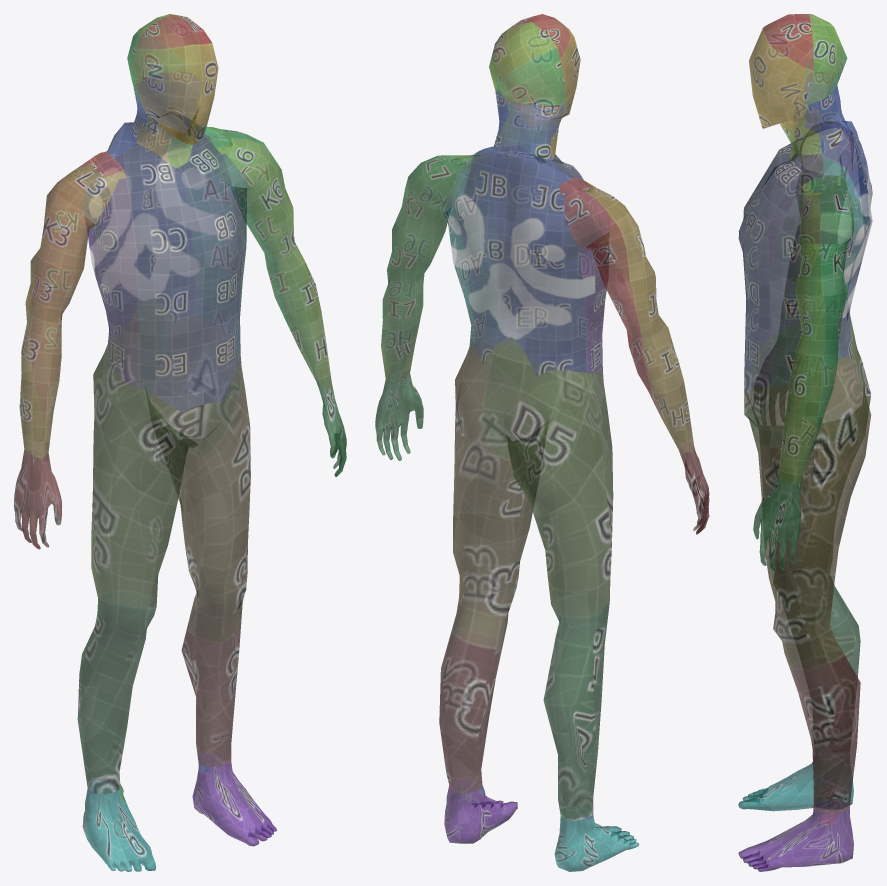
File: MaterialTest.fbx
3 renders of one model, left to right at view 1: azimuth 30°, elevation 25°; view 2: azimuth 150°, elevation 25°; view 3: azimuth 270°, elevation 25°, orthographic.
Parts seen in each view (by area): view 1: MaterialTest; view 2: MaterialTest; view 3: MaterialTest.
Boxes of the visible parts, x1,y1,x2,y2 form: MaterialTest: (14,14,346,871); MaterialTest: (375,14,709,871); MaterialTest: (738,14,872,871).
Bounding box in the file's own units: 75.06 × 180 × 26.75.
